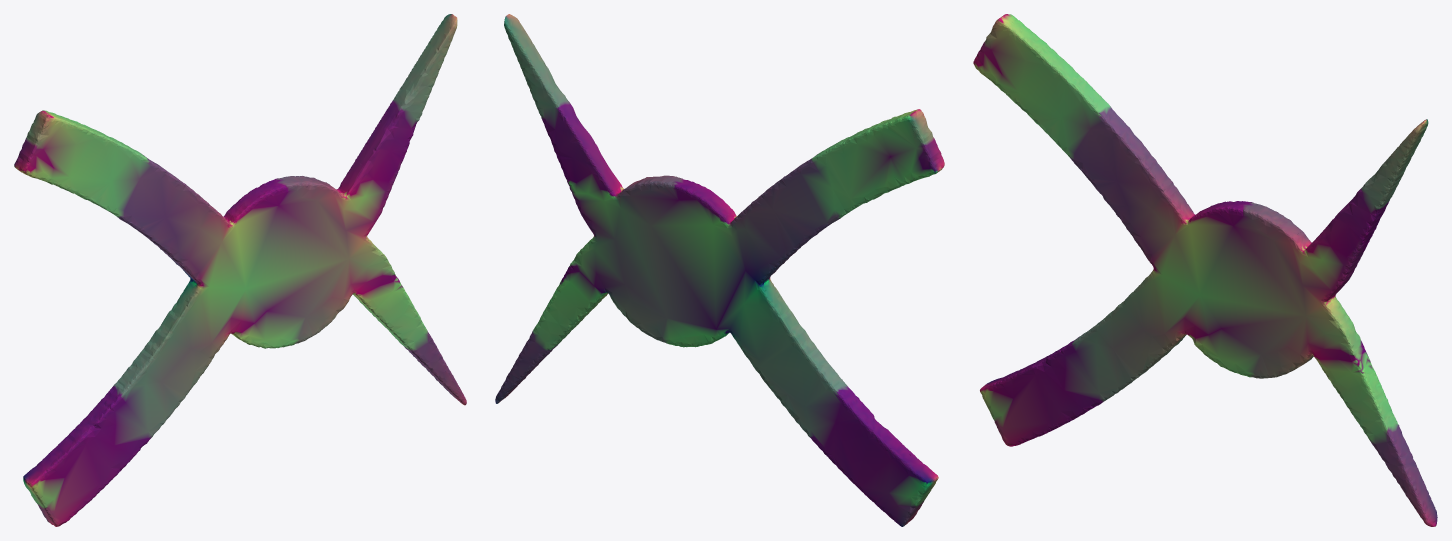
File: scissor-8.off.obj
The picture shows the model from 3 angles, left to right: view 1: azimuth 30°, elevation 25°; view 2: azimuth 150°, elevation 25°; view 3: azimuth 330°, elevation 25°; orthographic projection. The views are drawn at different scales.
Bounding box in the file's own units: 1.36 × 1.21 × 0.058.
